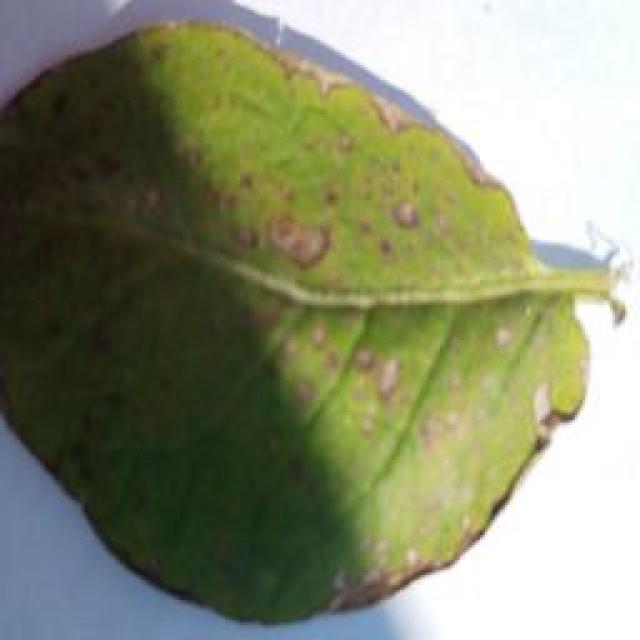Potato_Early_Blight: (4, 13, 590, 623)
